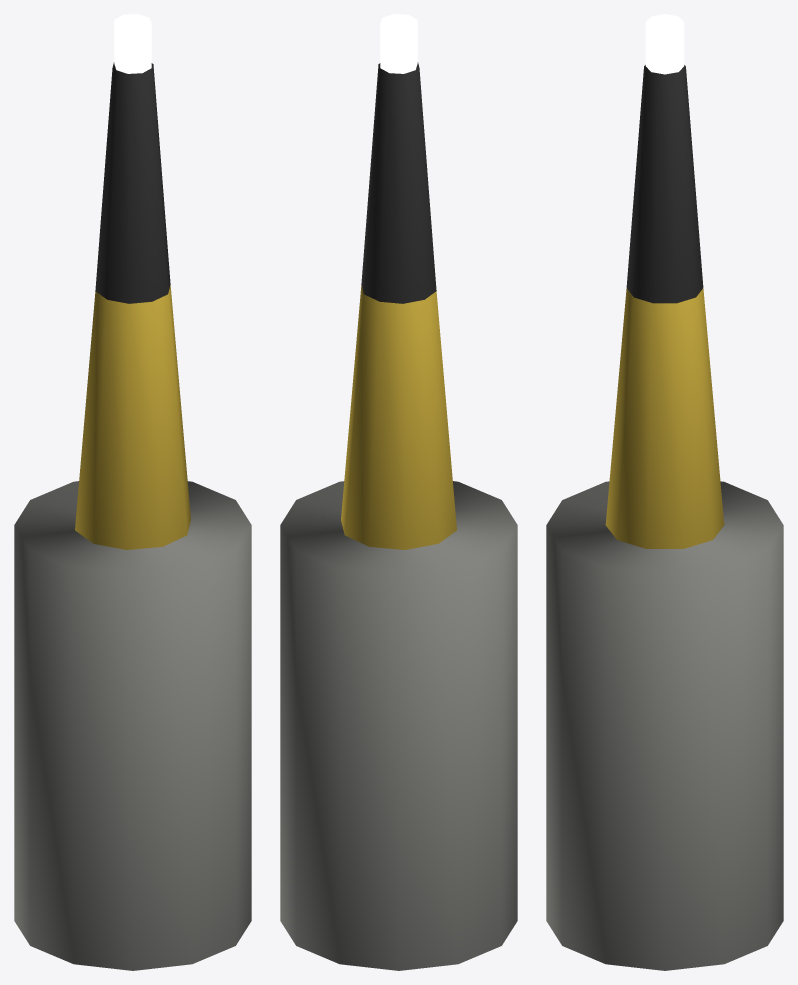
The model's file is tower.glb.
3 views of the same model, side by side, from view 1: azimuth 30°, elevation 25°; view 2: azimuth 150°, elevation 25°; view 3: azimuth 270°, elevation 25° (orthographic).
Visible parts, largest first — view 1: Tower; view 2: Tower; view 3: Tower.
Part boxes in pixels (x1,y1,x2,y2): Tower: (14,14,251,970); Tower: (280,14,517,970); Tower: (546,14,783,970).
Bounding box in the file's own units: 6.8 × 28.4 × 6.8.
